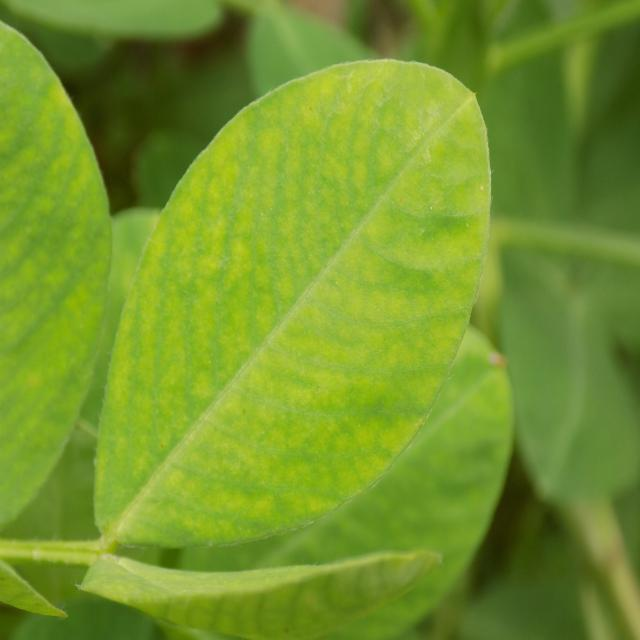Ground nut_healthy: (97, 63, 491, 552)
